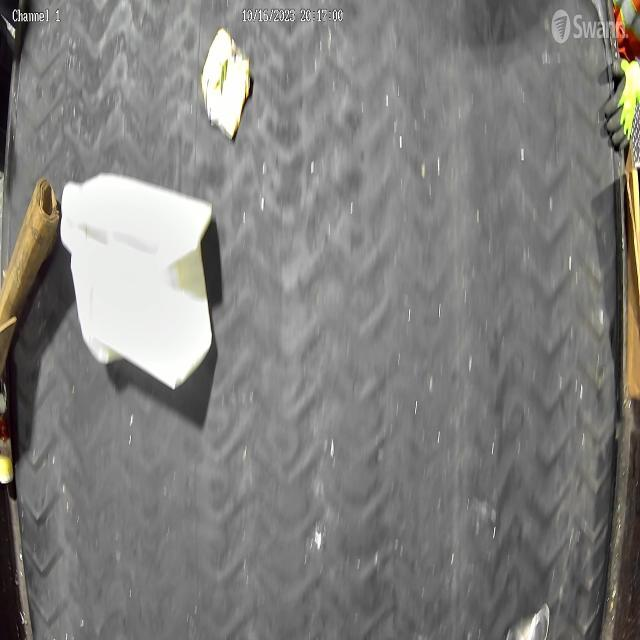milk_jug: (58, 168, 215, 394)
